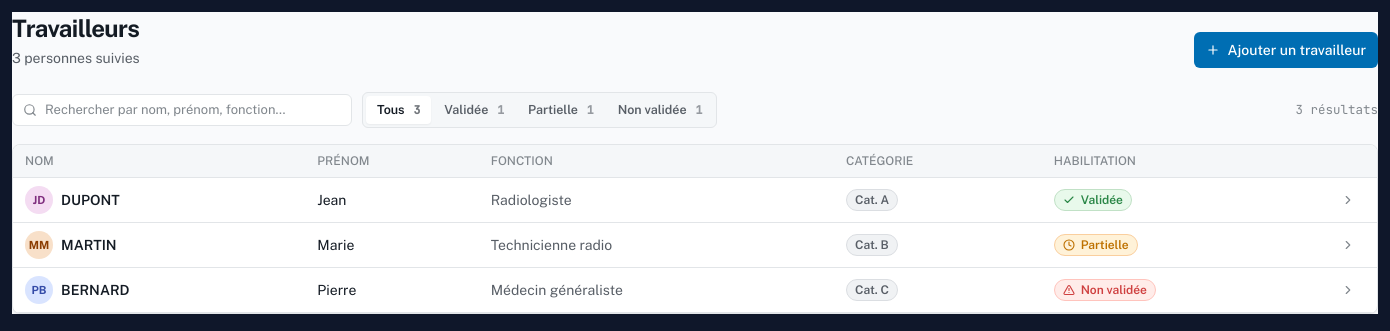
Scenario: TravailleursList › should filter list when clicking validee pill
expect the text "Dupont" is shown: met, box [61,190,120,210]
expect the text "Martin" is shown: met, box [61,235,117,255]
Click the button with test id "filter-pill-validee" at (474, 110), box [433,96,515,124]
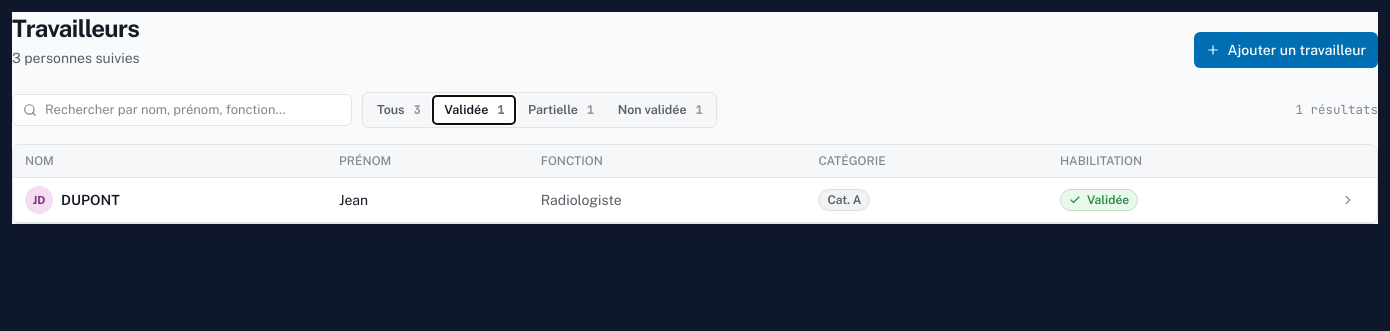
expect the text "Dupont" is shown: met, box [61,190,120,210]
expect the text "Martin" is gone: met
expect the text "Bernard" is gone: met
